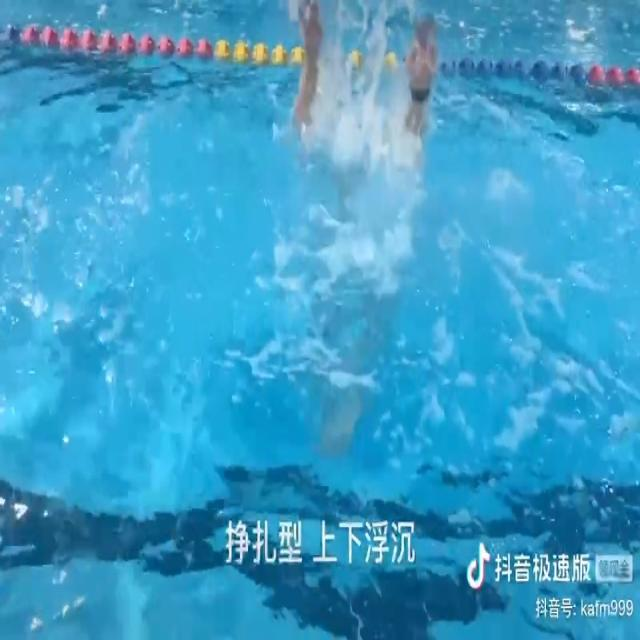Drowning: (293, 4, 441, 158)
